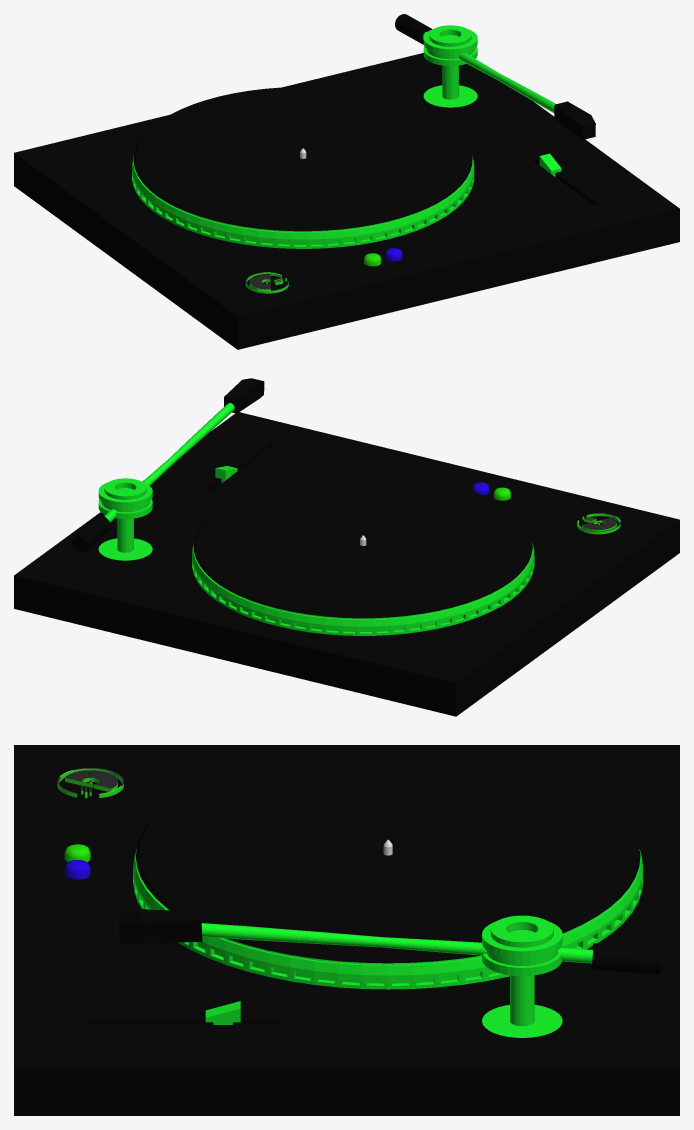
Rendered from vinyl.glb.
The picture shows the model from 3 angles, top to bottom: view 1: azimuth 30°, elevation 25°; view 2: azimuth 150°, elevation 25°; view 3: azimuth 270°, elevation 25°; orthographic projection. The views are drawn at different scales.
Visible parts, largest first — view 1: Record Player Body, Turntable, ArmPivot, Arm; view 2: Record Player Body, Turntable, ArmPivot, Arm; view 3: Record Player Body, Turntable, Arm, ArmPivot, path17, path16, VolumeKnob.
Boxes of the visible parts, box(x1,y1,x2,y2) form: Record Player Body: box(14, 53, 679, 349); Turntable: box(132, 87, 474, 248); ArmPivot: box(423, 25, 477, 107); Arm: box(395, 14, 595, 139); Record Player Body: box(14, 412, 679, 716); Turntable: box(192, 474, 534, 635); ArmPivot: box(98, 478, 152, 560); Arm: box(72, 378, 264, 552); Record Player Body: box(14, 745, 679, 1115); Turntable: box(133, 748, 643, 989); Arm: box(118, 909, 662, 974); ArmPivot: box(482, 915, 562, 1037); path17: box(57, 768, 123, 798); path16: box(57, 767, 123, 793); VolumeKnob: box(205, 1001, 240, 1024).
Bounding box in the file's own units: 3.21 × 0.7458 × 2.81.
